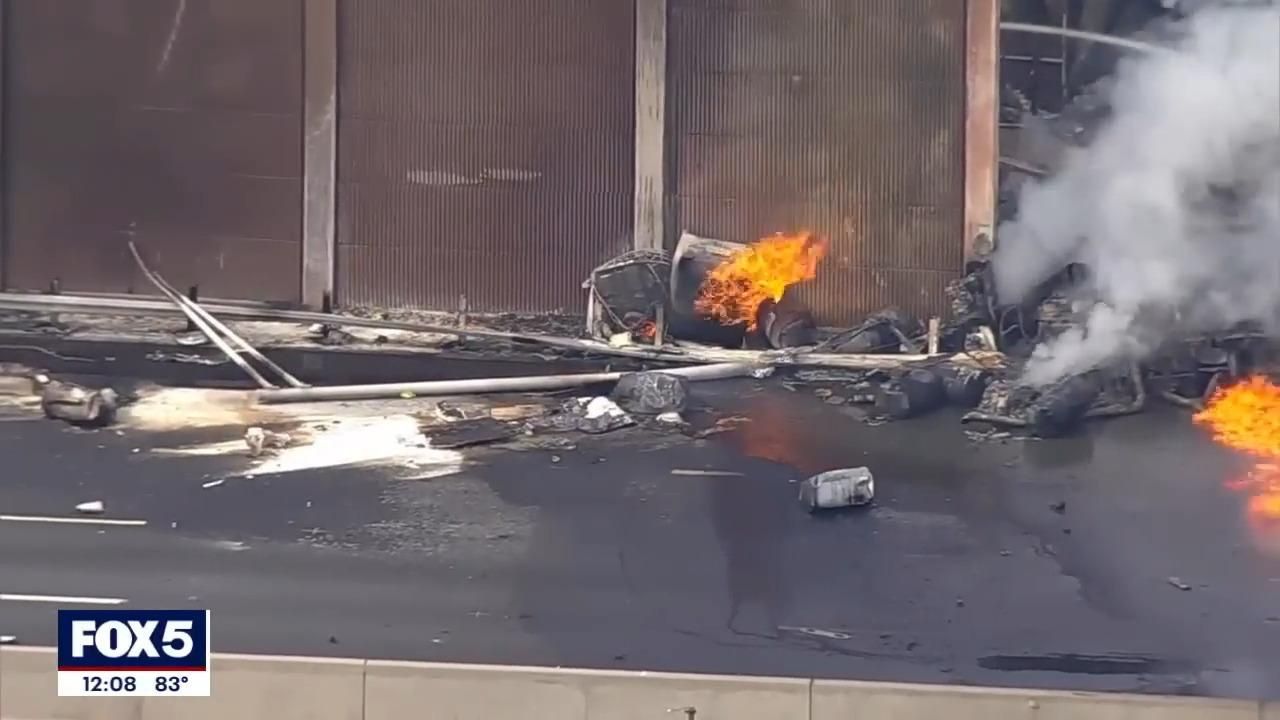fire: (698, 229, 824, 328)
